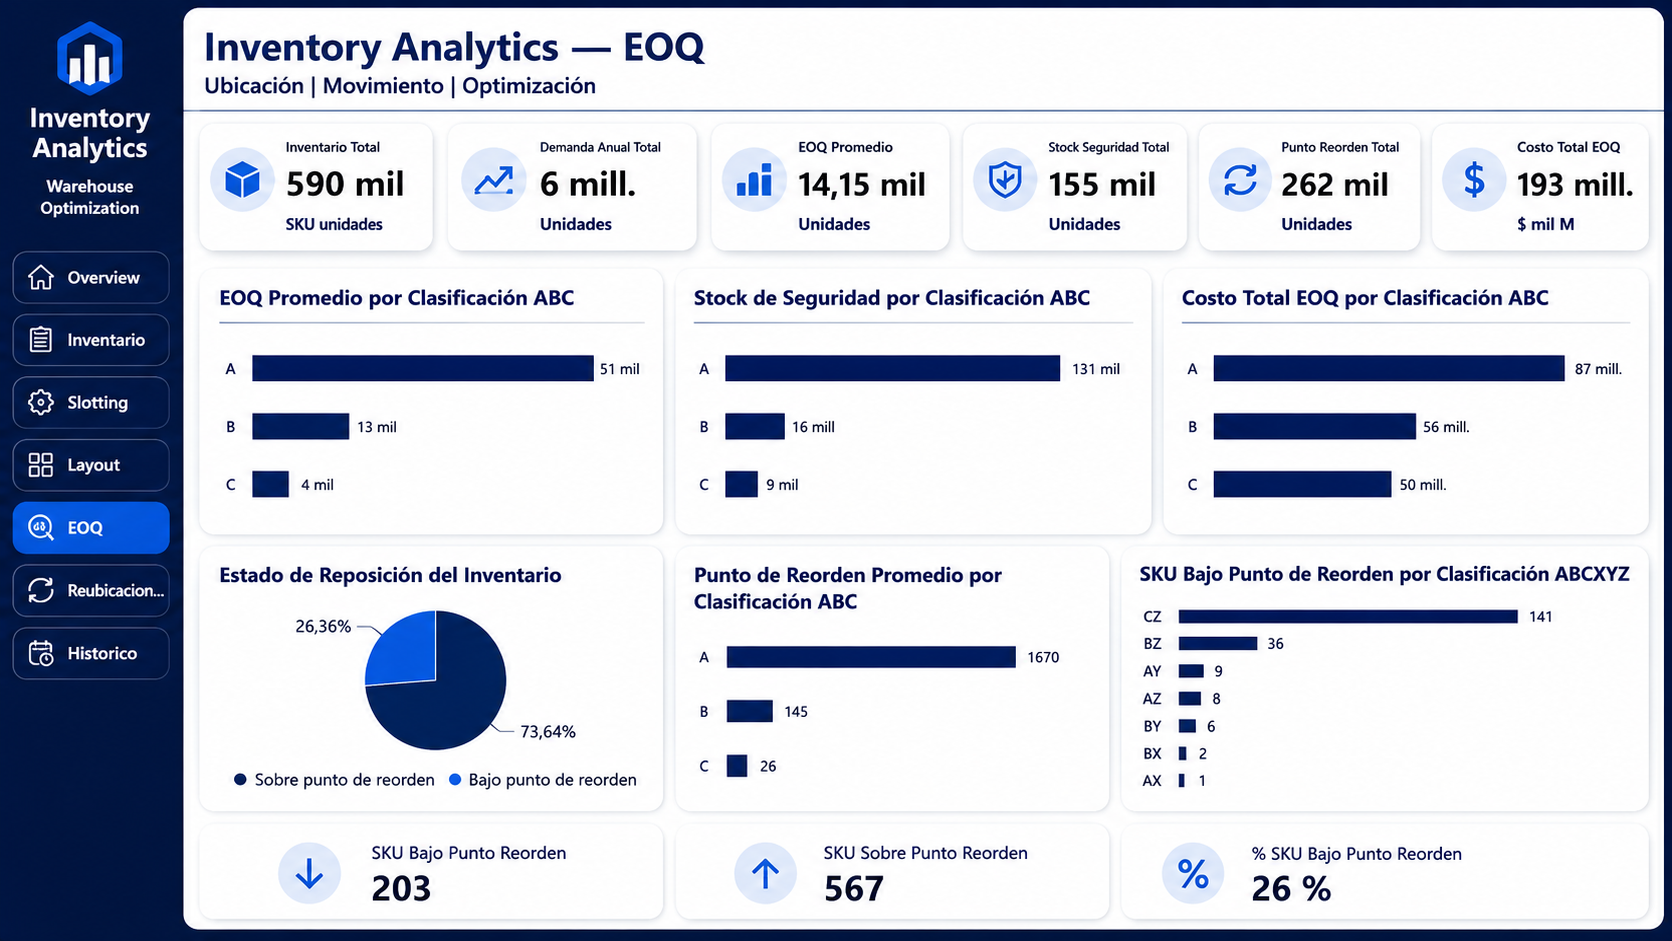

The dashboard page shown, as its layout file describes it:
{"tool":"powerbi","page":{"name":"EOQ","canvas":[1920,1080],"ordinal":4},"visuals":[{"type":"group","id":"g1","title":"Grupo 1","box":[0,25,1885,1040],"z":0},{"type":"shape","box":[240,25,1645,1040],"z":0,"group":"g1"},{"type":"shape","box":[0,25.9,239.8,1026],"z":1000,"group":"g1"},{"type":"cardVisual","title":"Total SKU","fields":{"Data":["Medidas.Inventario Total"]},"box":[244.1,129.6,218,110],"z":1000},{"type":"shape","box":[42.5,200,170,37.5],"z":2000,"group":"g1"},{"type":"barChart","title":"EOQ Promedio por Clasificación ABC","fields":{"Category":["dim_producto.abc"],"Y":["Medidas.EOQ Promedio"]},"box":[244.1,248.4,520,320],"z":2000},{"type":"textbox","box":[28.1,99.4,185.8,118.8],"z":3000,"group":"g1"},{"type":"barChart","title":"Stock de Seguridad por Clasificación ABC","fields":{"Category":["dim_producto.abc"],"Y":["Medidas.Stock Seguridad Total"]},"box":[788.4,248.4,520,320],"z":3000},{"type":"pageNavigator","box":[28.1,237.6,185.8,773.3],"z":4000,"group":"g1"},{"type":"barChart","title":"Punto de Reorden Promedio por Clasificación ABC","fields":{"Category":["dim_producto.abc"],"Y":["Medidas.Punto Reorden Promedio"]},"box":[788.4,591.8,520.6,319.7],"z":4000},{"type":"textbox","box":[256,40,510,75],"z":5000,"group":"g1"},{"type":"barChart","title":"Costo Total EOQ por Clasificación ABC","fields":{"Category":["dim_producto.abc"],"Y":["Medidas.Costo Total EOQ"]},"box":[1343.5,248.4,520,320],"z":5000},{"type":"shape","box":[240,105,1640,36],"z":6000,"group":"g1"},{"type":"cardVisual","title":"SKU Optimos","fields":{"Data":["Medidas.Demanda Anual Total"]},"box":[507.1,130.4,239.6,110],"z":6000},{"type":"cardVisual","title":"SKU a Mover","fields":{"Data":["Medidas.EOQ Promedio"]},"box":[771.4,131.1,210.6,105.3],"z":7000},{"type":"cardVisual","title":"SKU Mover Urgentes","fields":{"Data":["Medidas.Stock Seguridad Total"]},"box":[1049,130.4,241.5,110],"z":8000},{"type":"cardVisual","title":"SKU Sin Ubicacion","fields":{"Data":["Medidas.Punto Reorden Total"]},"box":[1324.1,129.6,251.3,110],"z":9000},{"type":"cardVisual","title":"Distancia Potencial Ahorrada","fields":{"Data":["Medidas.Costo Total EOQ"]},"box":[1589.2,129.6,282.8,110],"z":10000},{"type":"cardVisual","title":"Total SKU","fields":{"Data":["Medidas.SKU Bajo Punto Reorden"]},"box":[604.8,946.7,267.1,110],"z":11000},{"type":"cardVisual","title":"Total SKU","fields":{"Data":["Medidas.% SKU Bajo Punto Reorden"]},"box":[1233.2,946.7,298.5,110],"z":12000},{"type":"cardVisual","title":"Total SKU","fields":{"Data":["Medidas.SKU Sobre Punto Reorden"]},"box":[915.1,946.7,284.7,110],"z":13000},{"type":"pieChart","title":"Estado de Reposición del Inventario","fields":{"Category":["dim_producto.Estado Reorden"],"Y":["Count(fact_layout.codigo)"]},"box":[244.1,591.8,520.6,319.7],"z":14000},{"type":"barChart","title":"SKU Bajo Punto de Reorden por Clasificación ABCXYZ","fields":{"Category":["dim_producto.abcxyz"],"Y":["Count(fact_layout.codigo)"]},"box":[1343.5,591.8,520,320],"z":15000}]}

Visuals, with their boxes on the page's 1920x1080 design canvas (x1, y1, x2, y2). These are canvas units, not pixel positions in the 1672x941 screenshot, which may show the page scaled, cropped or inside an application window:
"Grupo 1" group: <region>0, 25, 1885, 1065</region>
shape: <region>240, 25, 1885, 1065</region>
shape: <region>0, 26, 240, 1052</region>
"Total SKU" cardVisual: <region>244, 130, 462, 240</region>
shape: <region>42, 200, 212, 238</region>
"EOQ Promedio por Clasificación ABC" barChart: <region>244, 248, 764, 568</region>
textbox: <region>28, 99, 214, 218</region>
"Stock de Seguridad por Clasificación ABC" barChart: <region>788, 248, 1308, 568</region>
pageNavigator: <region>28, 238, 214, 1011</region>
"Punto de Reorden Promedio por Clasificación ABC" barChart: <region>788, 592, 1309, 912</region>
textbox: <region>256, 40, 766, 115</region>
"Costo Total EOQ por Clasificación ABC" barChart: <region>1344, 248, 1864, 568</region>
shape: <region>240, 105, 1880, 141</region>
"SKU Optimos" cardVisual: <region>507, 130, 747, 240</region>
"SKU a Mover" cardVisual: <region>771, 131, 982, 236</region>
"SKU Mover Urgentes" cardVisual: <region>1049, 130, 1290, 240</region>
"SKU Sin Ubicacion" cardVisual: <region>1324, 130, 1575, 240</region>
"Distancia Potencial Ahorrada" cardVisual: <region>1589, 130, 1872, 240</region>
"Total SKU" cardVisual: <region>605, 947, 872, 1057</region>
"Total SKU" cardVisual: <region>1233, 947, 1532, 1057</region>
"Total SKU" cardVisual: <region>915, 947, 1200, 1057</region>
"Estado de Reposición del Inventario" pieChart: <region>244, 592, 765, 912</region>
"SKU Bajo Punto de Reorden por Clasificación ABCXYZ" barChart: <region>1344, 592, 1864, 912</region>
